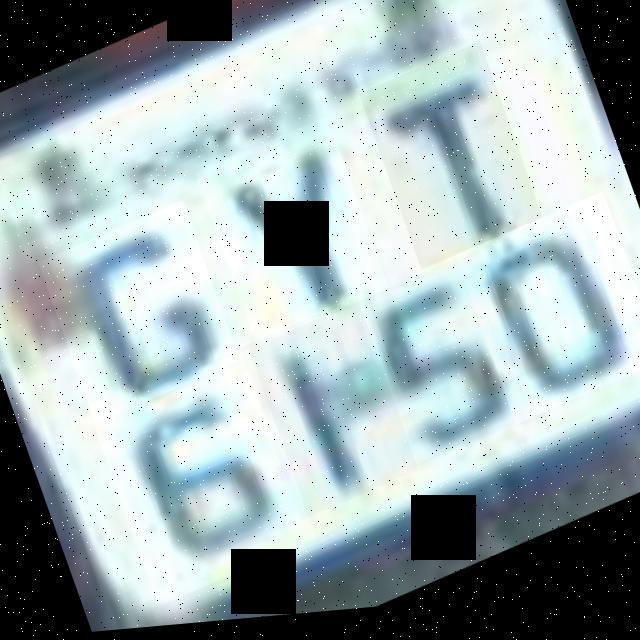0: (455, 198, 640, 437)
1: (239, 299, 418, 530)
5: (336, 253, 538, 487)
6: (90, 348, 316, 614)
C: (38, 198, 240, 428)
T: (359, 45, 542, 281)
Y: (194, 117, 388, 354)
